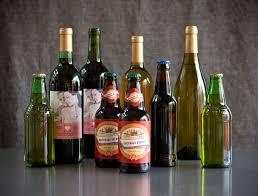Glass bottle: (15, 8, 244, 180)
